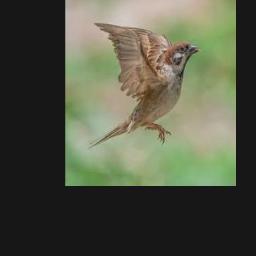Sparrow: (87, 23, 201, 148)
